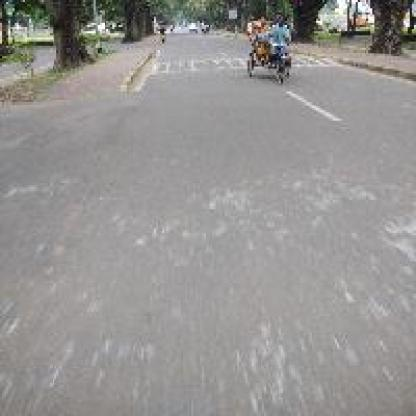Speed Bump: (142, 50, 244, 79)
